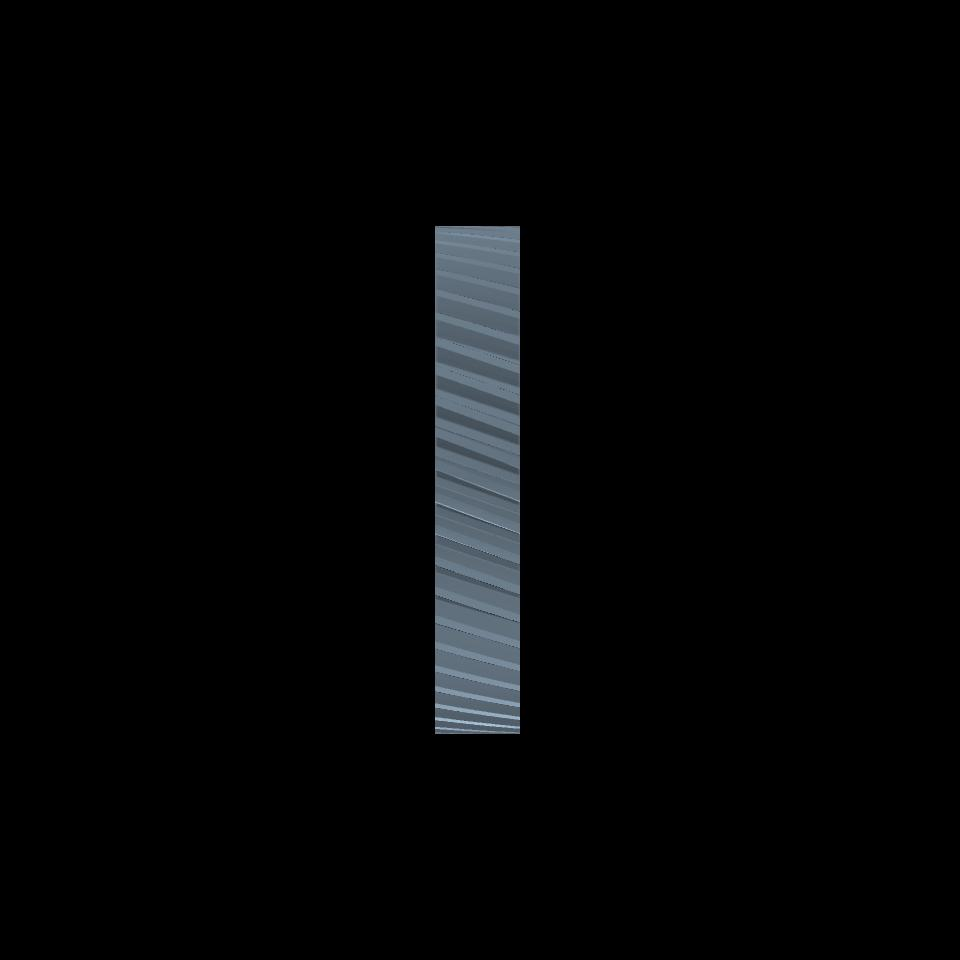Helical: (435, 225, 520, 733)
